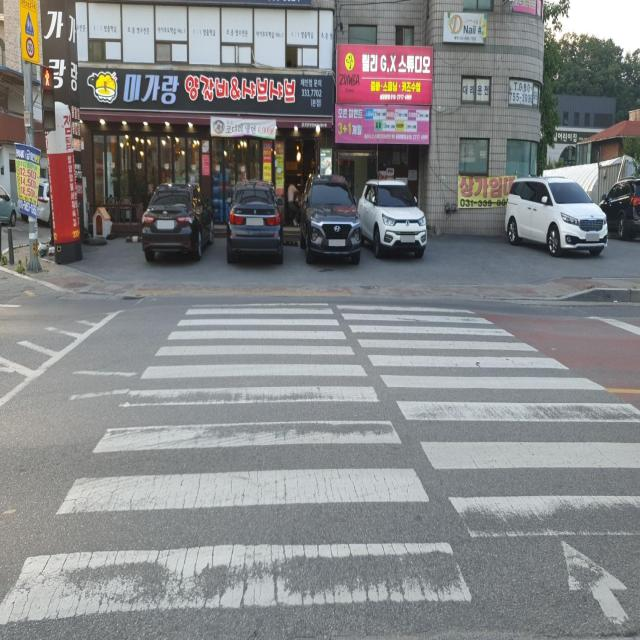횡단보도: (0, 302, 640, 629)
